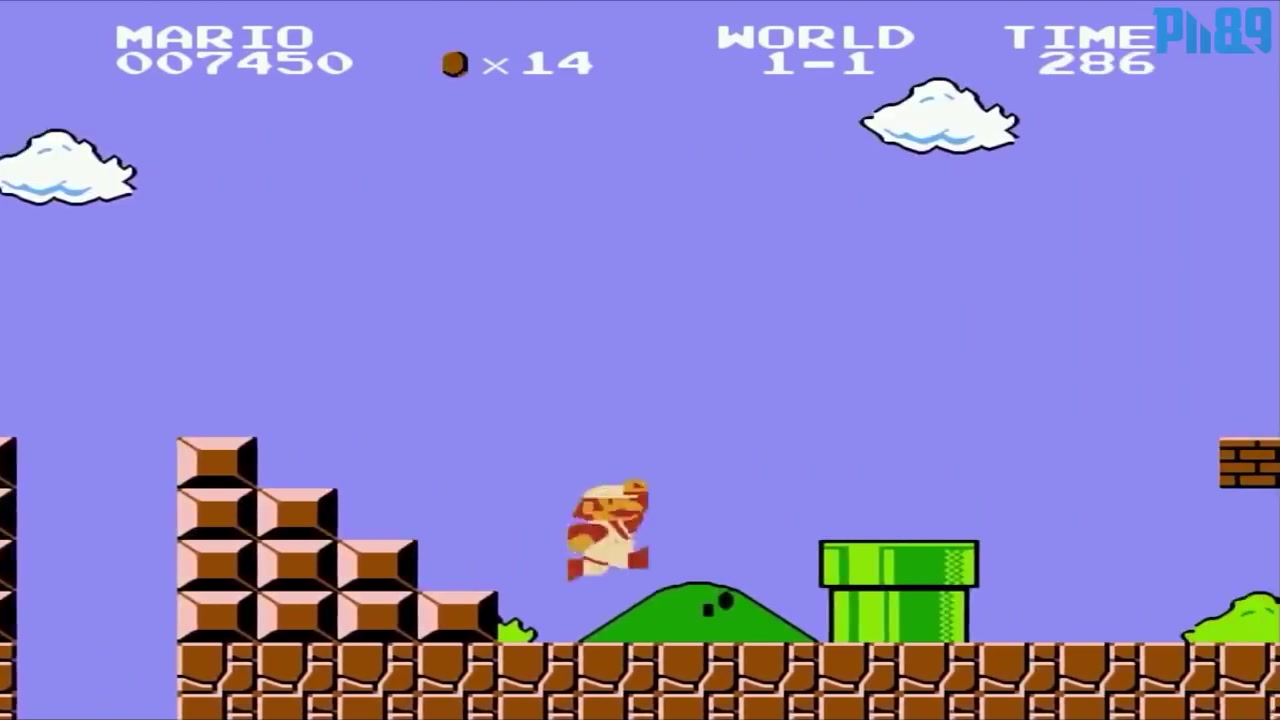mario: (557, 477, 663, 577)
